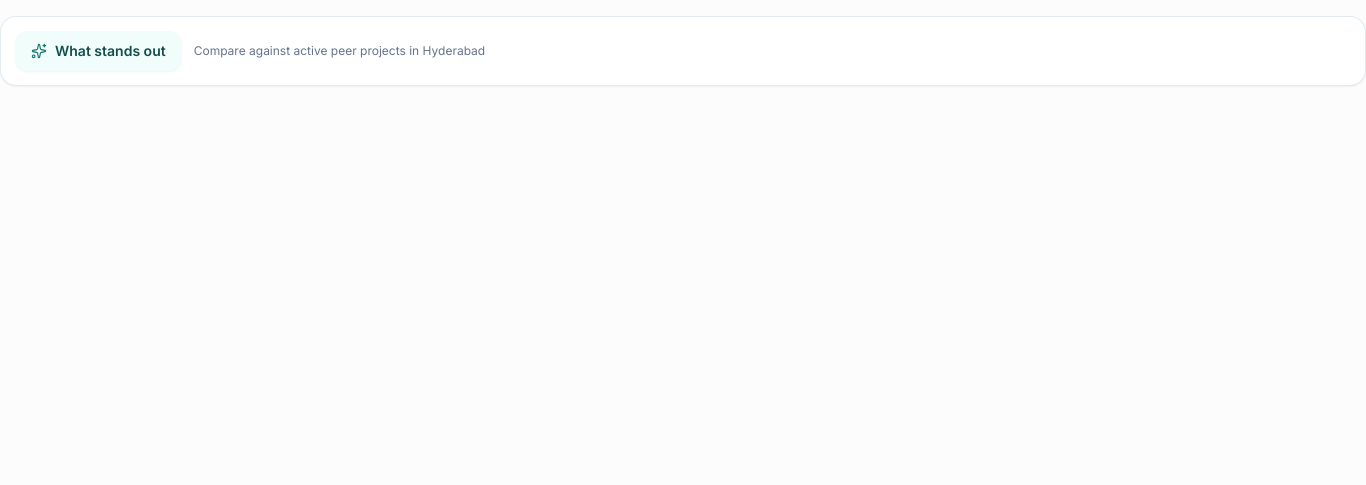
Test: StandoutAIAnalysis Component › 2. Clicking button transitions to loading state
The width and height of the screenshot is (1366, 485).
Step 1. Click the button "What stands out" → point(98, 51), box [15,31,182,71]
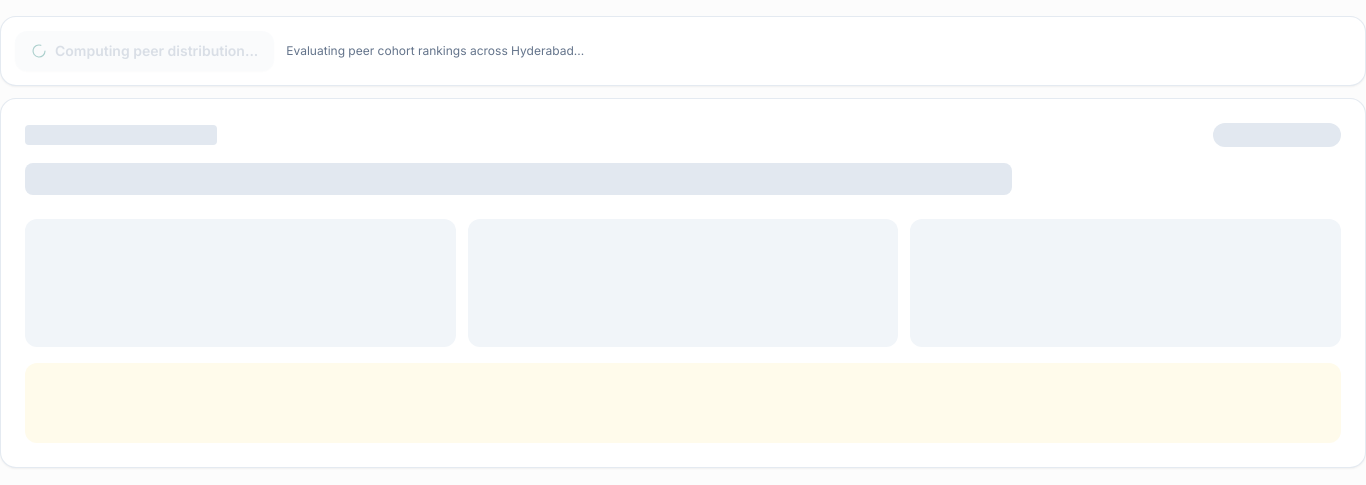
Now the button "Computing peer distribution..." is shown, box [15,31,274,71]
Now the message is shown
